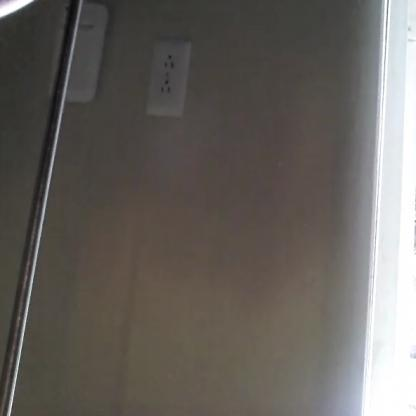OUTLET: (145, 43, 189, 116)
